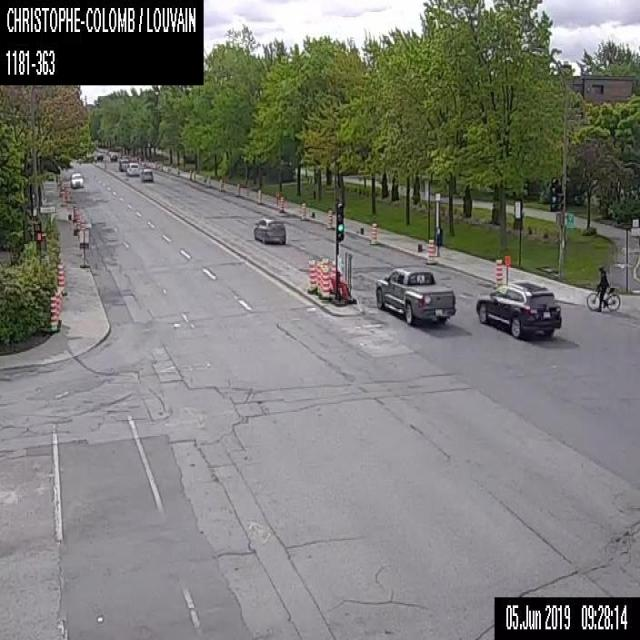construction: (318, 267, 331, 299), (79, 228, 89, 267), (50, 295, 60, 331), (307, 258, 317, 292), (426, 238, 436, 264), (494, 256, 502, 287), (58, 264, 66, 294), (328, 258, 335, 292), (503, 253, 511, 282), (369, 220, 378, 244), (54, 292, 60, 326), (324, 208, 332, 227), (316, 260, 320, 292), (57, 289, 61, 321), (300, 200, 306, 219), (255, 188, 261, 204), (218, 177, 224, 192), (279, 195, 284, 212), (274, 189, 279, 206), (234, 182, 239, 198), (65, 184, 69, 202), (61, 189, 65, 206), (72, 205, 76, 222), (76, 213, 80, 230), (206, 173, 211, 186), (320, 258, 328, 266), (188, 168, 192, 180), (192, 169, 196, 181), (80, 220, 84, 229)
cyclist: (585, 265, 620, 311)
vehicle: (476, 279, 562, 339), (376, 264, 456, 324), (253, 215, 286, 242), (70, 171, 84, 188), (125, 161, 138, 175), (140, 168, 152, 181), (118, 157, 129, 170), (120, 154, 131, 161), (110, 152, 117, 161)
